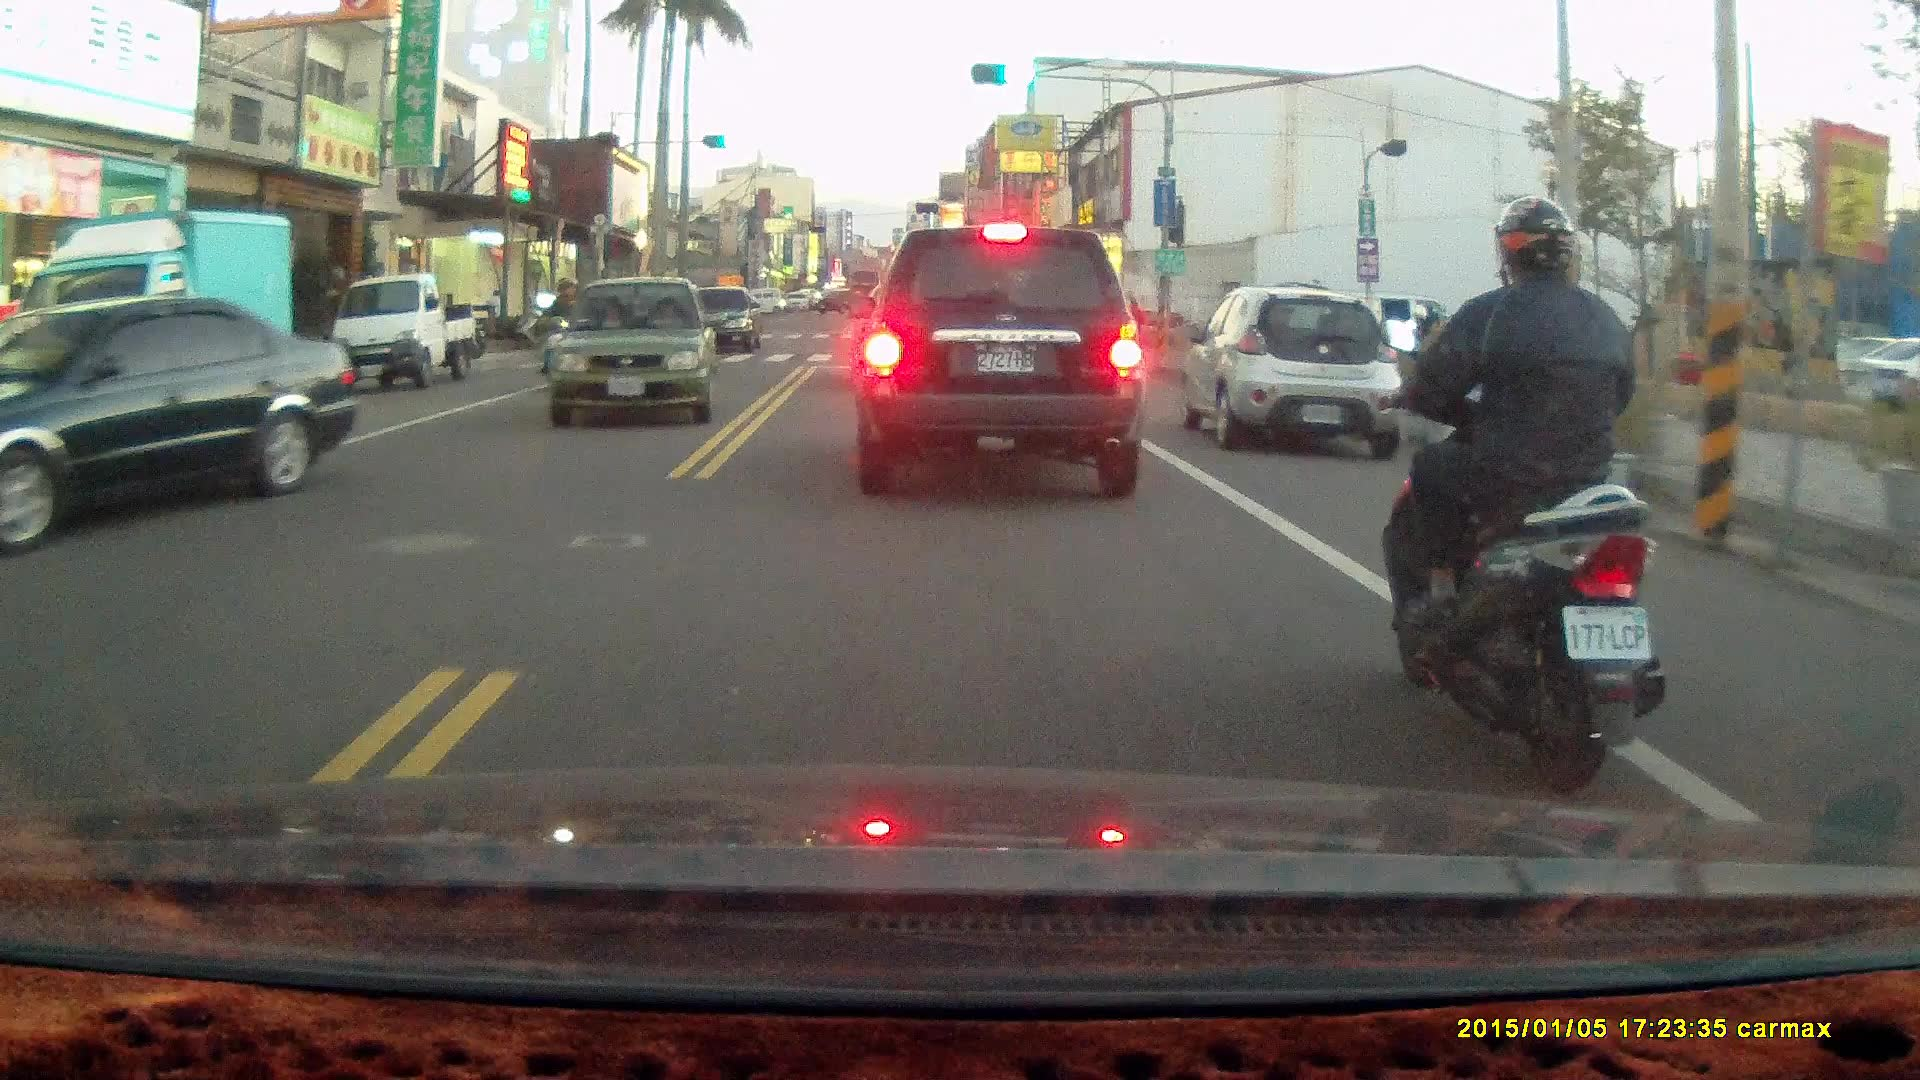rider: (1378, 196, 1668, 797), (533, 279, 583, 371)
vehicle: (1, 294, 364, 555), (853, 222, 1146, 499), (38, 207, 294, 431), (1185, 286, 1406, 454), (543, 271, 717, 426), (322, 268, 479, 387)
